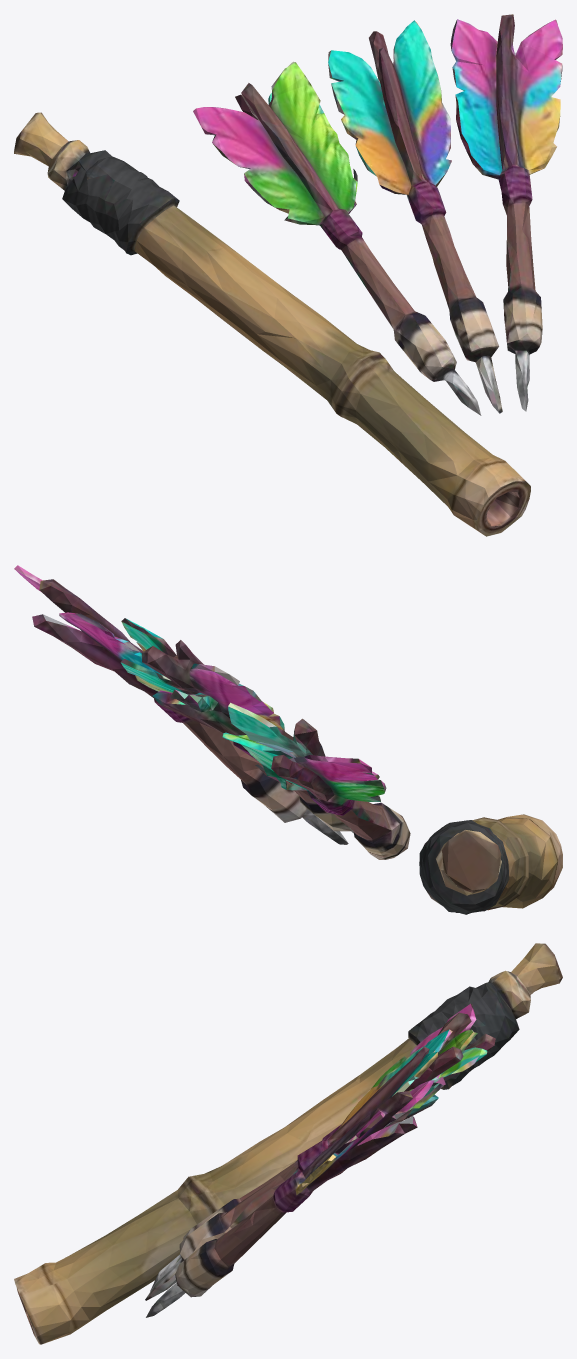
The model's file is blowdart.glb.
3 views of the same model, one above another, from view 1: azimuth 30°, elevation 25°; view 2: azimuth 150°, elevation 25°; view 3: azimuth 270°, elevation 25° (orthographic). The views are drawn at different scales.
Parts seen in each view (by area): view 1: tmp0k9wc70j.ply; view 2: tmp0k9wc70j.ply; view 3: tmp0k9wc70j.ply.
Boxes of the visible parts, x1,y1,x2,y2 form: tmp0k9wc70j.ply: (14, 14, 562, 536); tmp0k9wc70j.ply: (14, 565, 562, 914); tmp0k9wc70j.ply: (14, 943, 562, 1344).
Size of the model in its own units: 1.97 by 1.39 by 2.
Materials: 1 (1 with a texture image).
